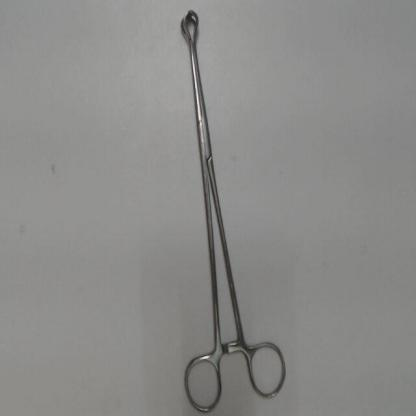8 Babcock Tissue Forceps: (175, 3, 291, 416)
